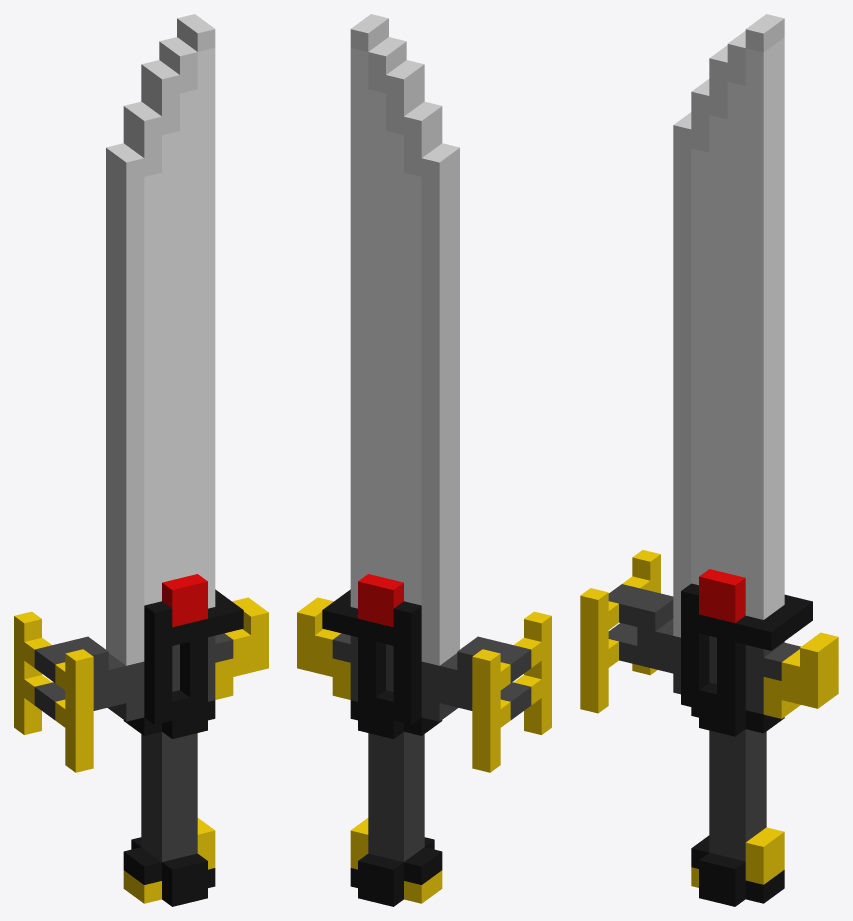
File: RGSword.obj
3 renders of one model, left to right at view 1: azimuth 30°, elevation 25°; view 2: azimuth 150°, elevation 25°; view 3: azimuth 330°, elevation 25°, orthographic.
Size of the model in its own units: 1.2 by 4.6 by 0.6.
1 material, 1 textured.
